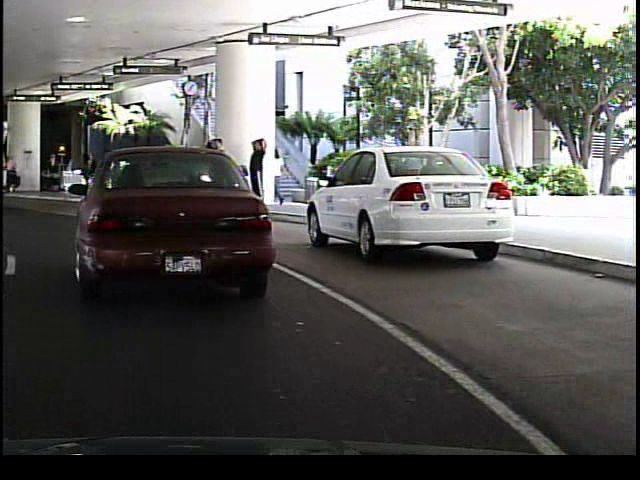person: (202, 133, 228, 209), (245, 134, 267, 210), (265, 145, 289, 207), (92, 156, 116, 196)
